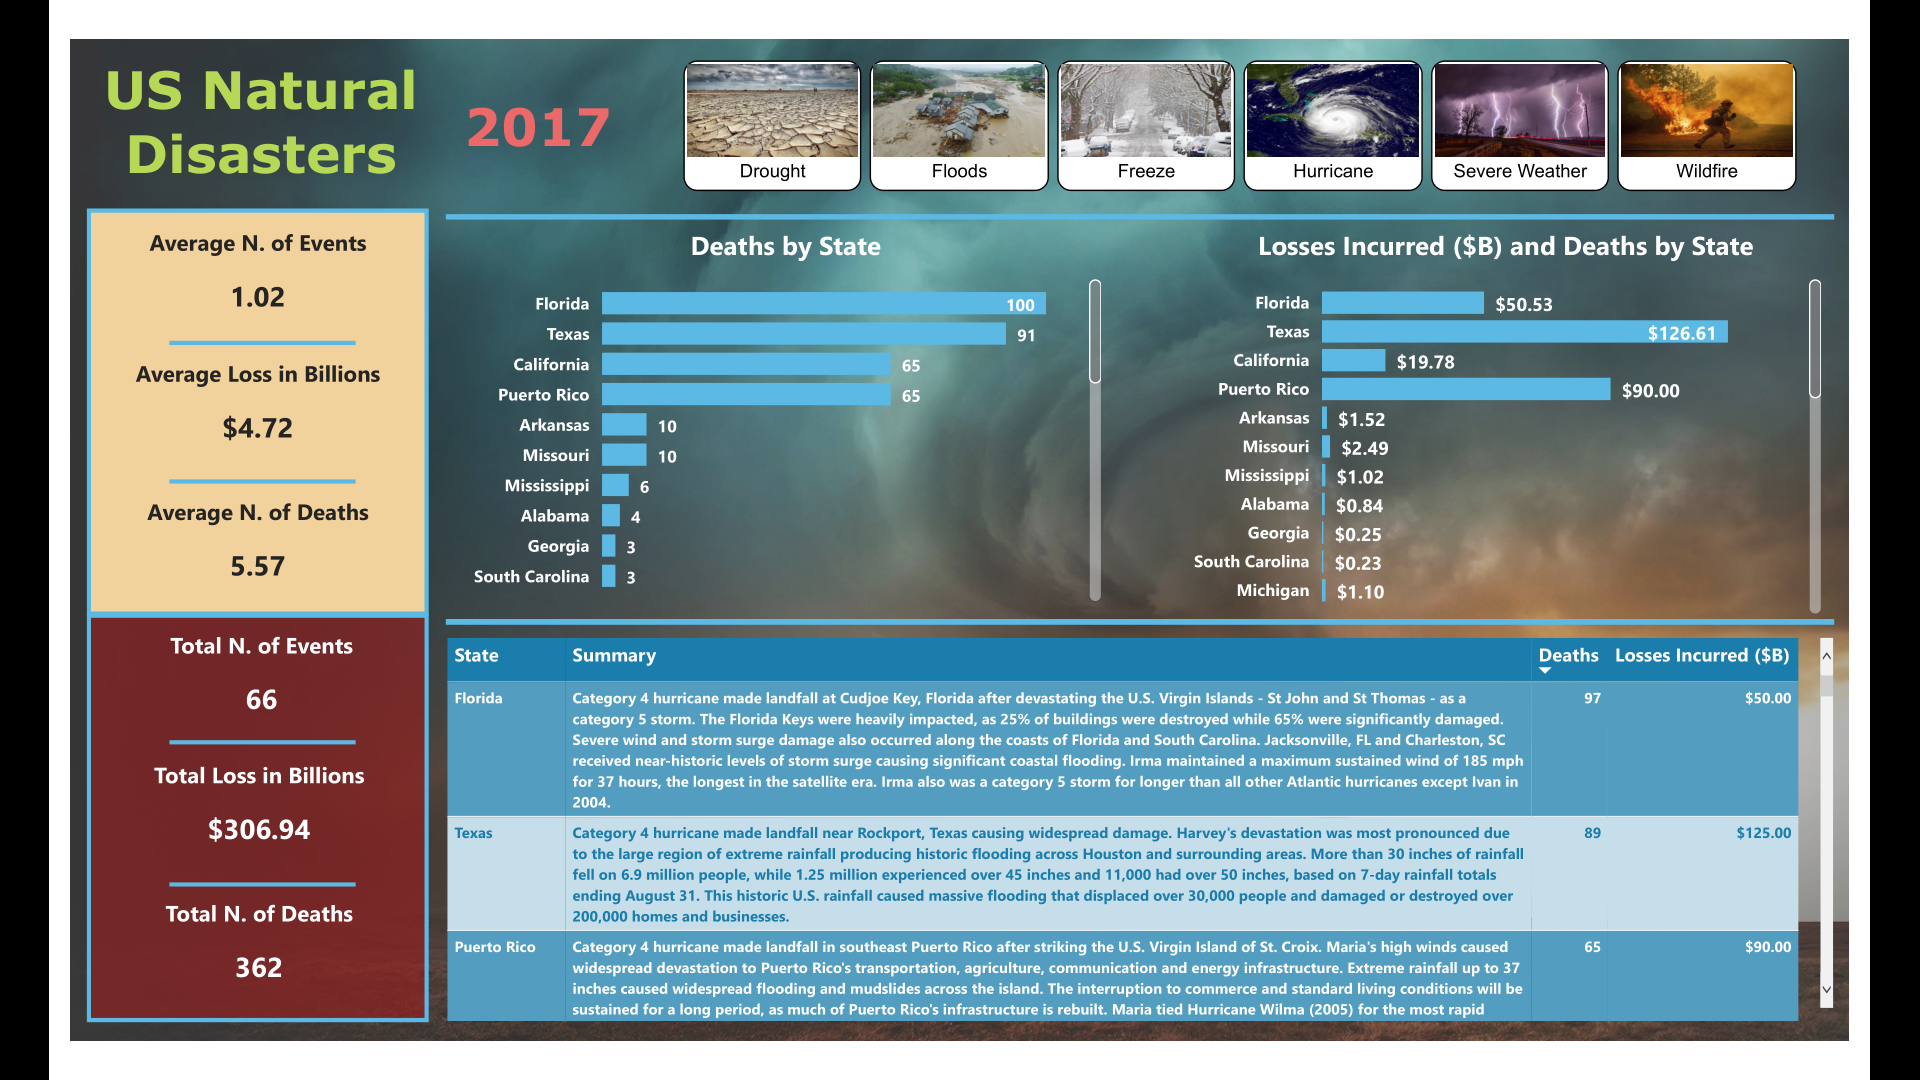

The page's visual inventory and layout, read from the dashboard file:
{"tool":"powerbi","page":{"name":"Summary Report","canvas":[1280,720],"ordinal":1},"visuals":[{"type":"ChicletSlicer1448559807354","fields":{"Category":["Natural Disasters in 2017.Type of Disaster"],"Image":["Natural Disasters in 2017.Image"],"Values":["Sum(Natural Disasters in 2017.Deaths)"]},"box":[433,7.3,817,111.7],"z":0},{"type":"basicShape","box":[9.1,118.9,251.4,299],"z":1000},{"type":"basicShape","box":[9.1,409.6,251.4,299.9],"z":2000},{"type":"card","title":"Average N. of Events","fields":{"Values":["Avg(Natural Disasters in 2017.No. of Events)"]},"box":[9.1,135.3,251.4,81.4],"z":3000},{"type":"basicShape","box":[61.3,206.6,153.6,22.9],"z":4000},{"type":"basicShape","box":[61.3,308.1,153.6,20.1],"z":5000},{"type":"card","title":"Average Loss in Billions","fields":{"Values":["Avg(Natural Disasters in 2017.Losses Incurred ($B))"]},"box":[9.1,229.5,251.4,81.4],"z":6000},{"type":"card","title":"Average N. of Deaths","fields":{"Values":["Avg(Natural Disasters in 2017.Deaths)"]},"box":[9.1,328.2,251.4,81.4],"z":7000},{"type":"card","title":"Total N. of Events","fields":{"Values":["Sum(Natural Disasters in 2017.No. of Events)"]},"box":[11.9,424.2,251.4,81.4],"z":8000},{"type":"basicShape","box":[61.3,495.5,153.6,20.1],"z":9000},{"type":"basicShape","box":[61.3,599.8,153.6,17.4],"z":10000},{"type":"card","title":"Total Loss in Billions","fields":{"Values":["Sum(Natural Disasters in 2017.Losses Incurred ($B))"]},"box":[10,518.3,251.4,81.4],"z":11000},{"type":"card","title":"Total N. of Deaths","fields":{"Values":["Sum(Natural Disasters in 2017.Deaths)"]},"box":[10,617.1,251.4,81.4],"z":12000},{"type":"clusteredBarChart","fields":{"Category":["Natural Disasters in 2017.State"],"Y":["Sum(Natural Disasters in 2017.Deaths)"]},"box":[283.4,135.3,462.6,274.3],"z":13000},{"type":"basicShape","box":[260.6,118.9,1019.4,16.5],"z":14000},{"type":"clusteredBarChart","fields":{"Category":["Natural Disasters in 2017.State"],"Y":["Sum(Natural Disasters in 2017.Losses Incurred ($B))"]},"box":[801.8,135.3,462.6,282.5],"z":15000},{"type":"basicShape","box":[260.6,409.6,1019.4,15.5],"z":16000},{"type":"tableEx","fields":{"Values":["Natural Disasters in 2017.State","Natural Disasters in 2017.Summary","Sum(Natural Disasters in 2017.Deaths)","Sum(Natural Disasters in 2017.Losses Incurred ($B))"]},"box":[265.1,425.1,1008.5,285],"z":17000},{"type":"textbox","box":[9.4,7.3,255.7,111.7],"z":18000},{"type":"textbox","box":[265,33.4,144,60.5],"z":19000}]}

Visuals, with their boxes in screenshot pixels (x1, y1, x2, y2), scaled from the page's 1280x720 canvas onto the 1920x1080 screenshot:
ChicletSlicer1448559807354 - Natural Disasters in 2017.Type of Disaster x Natural Disasters in 2017.Image: detection(650, 11, 1875, 178)
basicShape: detection(14, 178, 391, 627)
basicShape: detection(14, 614, 391, 1064)
"Average N. of Events" card: detection(14, 203, 391, 325)
basicShape: detection(92, 310, 322, 344)
basicShape: detection(92, 462, 322, 492)
"Average Loss in Billions" card: detection(14, 344, 391, 466)
"Average N. of Deaths" card: detection(14, 492, 391, 614)
"Total N. of Events" card: detection(18, 636, 395, 758)
basicShape: detection(92, 743, 322, 773)
basicShape: detection(92, 900, 322, 926)
"Total Loss in Billions" card: detection(15, 777, 392, 900)
"Total N. of Deaths" card: detection(15, 926, 392, 1048)
clusteredBarChart - Natural Disasters in 2017.State x Sum(Natural Disasters in 2017.Deaths): detection(425, 203, 1119, 614)
basicShape: detection(391, 178, 1919, 203)
clusteredBarChart - Natural Disasters in 2017.State x Sum(Natural Disasters in 2017.Losses Incurred ($B)): detection(1203, 203, 1897, 627)
basicShape: detection(391, 614, 1919, 638)
tableEx - Natural Disasters in 2017.State x Natural Disasters in 2017.Summary: detection(398, 638, 1910, 1065)
textbox: detection(14, 11, 398, 178)
textbox: detection(398, 50, 614, 141)
